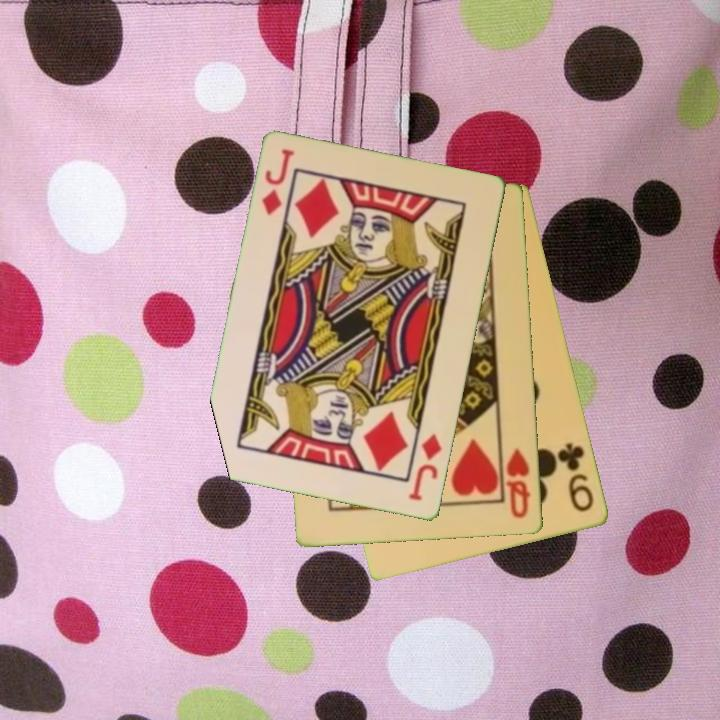9c: (555, 439, 598, 515)
Jd: (258, 145, 298, 219), (406, 430, 445, 504)
Qh: (502, 445, 534, 521)
